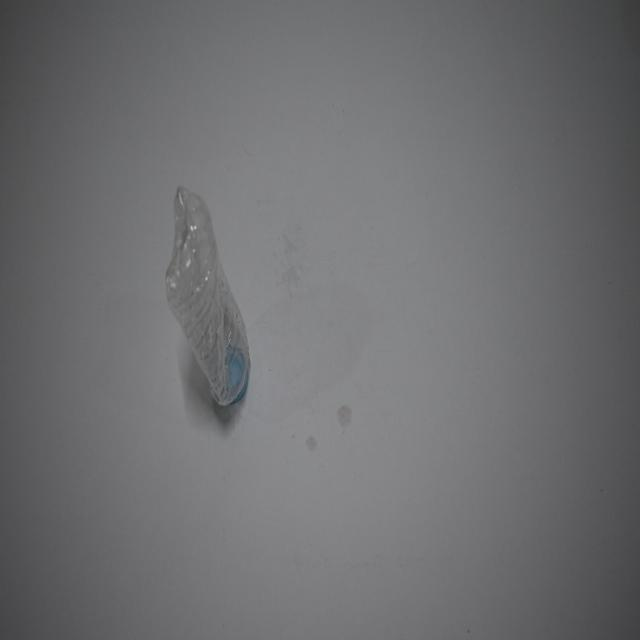empty: (166, 186, 250, 405)
